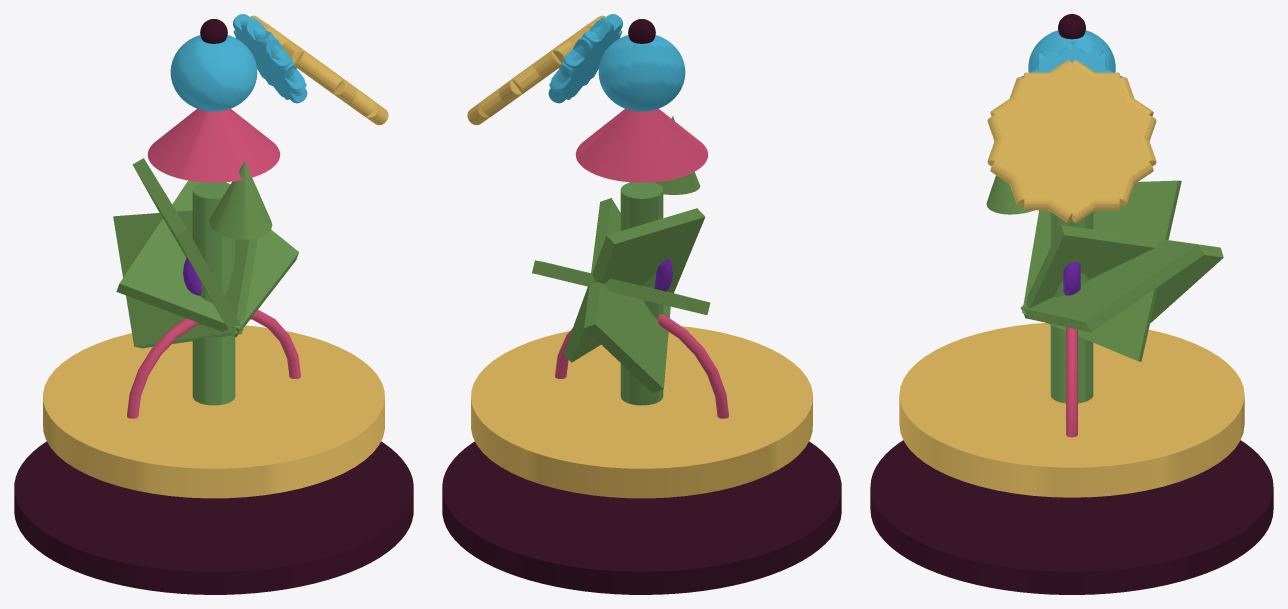
File: 0109_植物图鉴_王莲.glb
3 renders of one model, left to right at view 1: azimuth 30°, elevation 25°; view 2: azimuth 150°, elevation 25°; view 3: azimuth 270°, elevation 25°, orthographic.
Parts seen in each view (by area): view 1: card_0109; view 2: card_0109; view 3: card_0109.
Boxes of the visible parts, <box> form: card_0109: <box>14,14,413,594</box>; card_0109: <box>442,14,841,594</box>; card_0109: <box>870,14,1273,594</box>.
Bounding box in the file's own units: 0.7379 × 1 × 0.7385.
